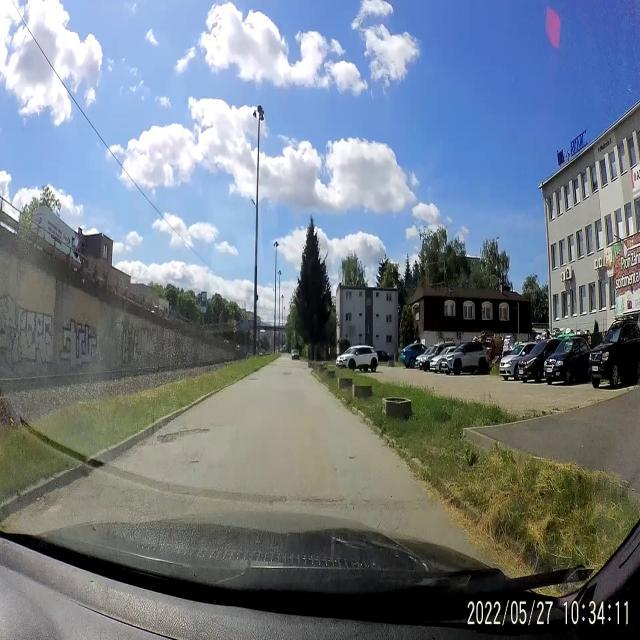Manhole: (246, 374, 259, 384)
Pothole: (156, 424, 212, 444), (188, 456, 200, 468), (348, 451, 356, 468), (282, 370, 293, 377)
